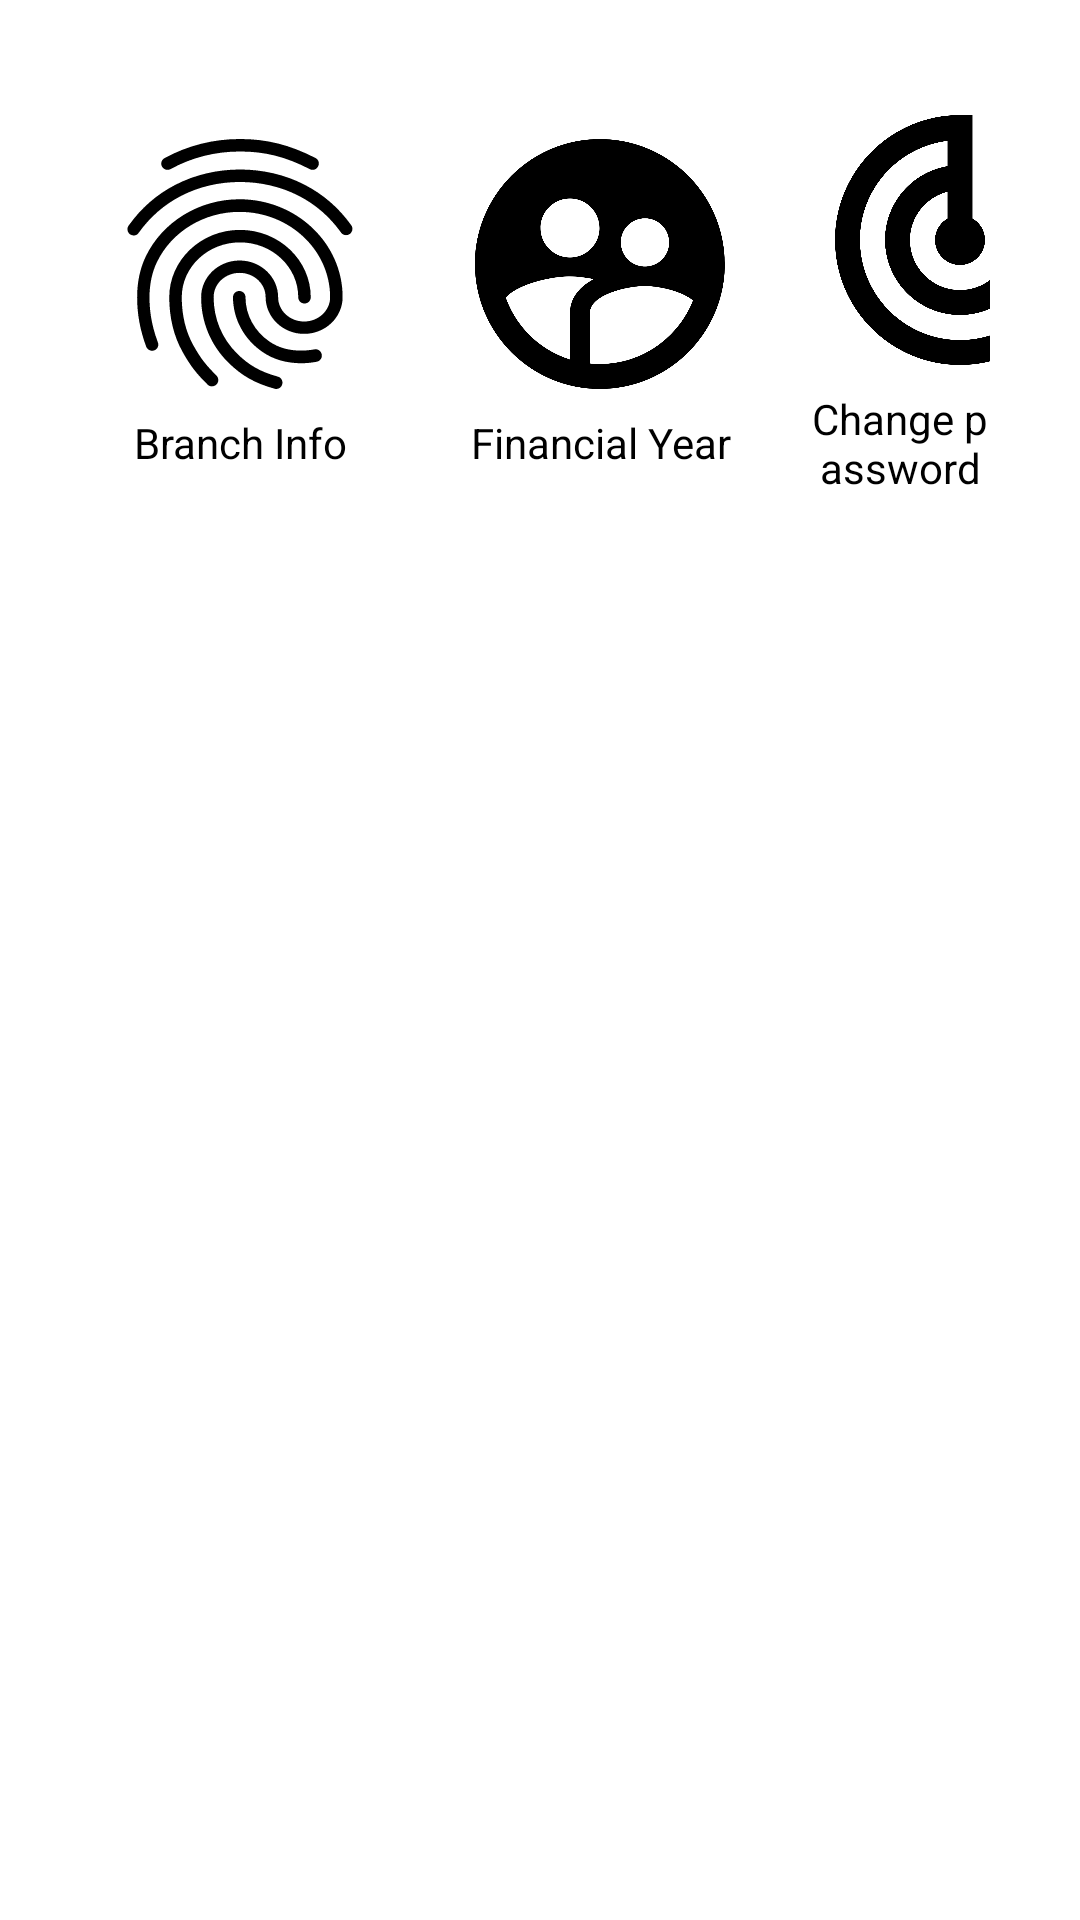

Where to tap for icons on this 1080x1920 app screen, as (x,y):
fingerprint: (240,264)
supervised user circle: (600,264)
